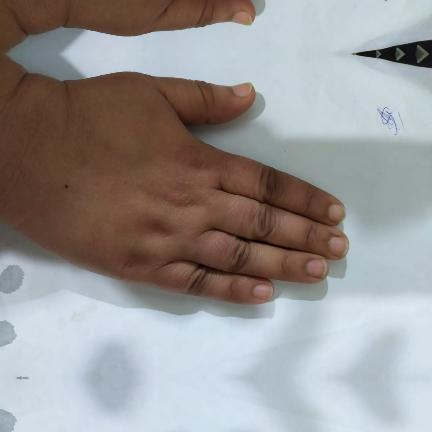Nail: (329, 237, 349, 257), (306, 259, 327, 278), (328, 204, 346, 224), (253, 284, 273, 300), (232, 83, 252, 97), (232, 11, 252, 25)
